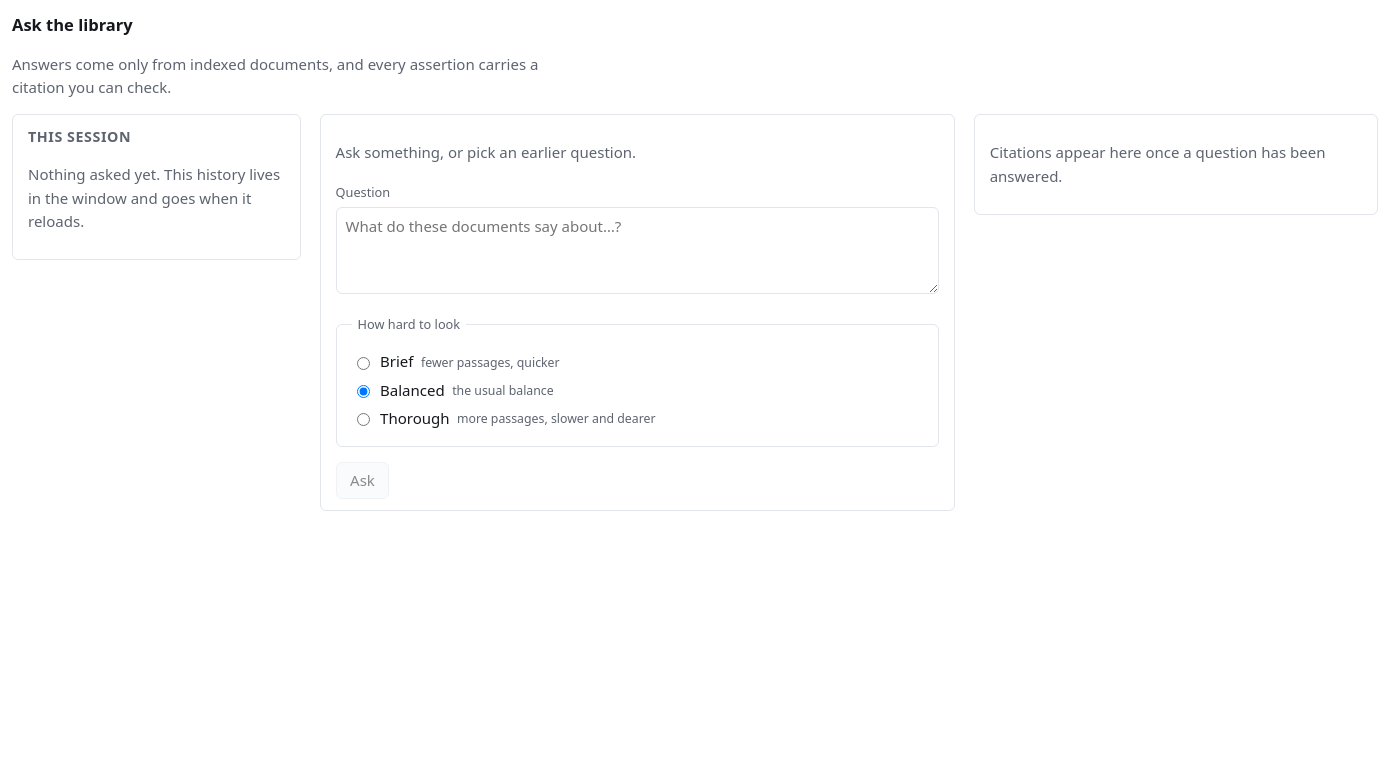
Test case: session history › keeps earlier questions and selects the newest
The image size is (1378, 780).
Type "¿la primera?" into the text box.
click(637, 250); type("¿la primera?")  # box [336,207,939,294]
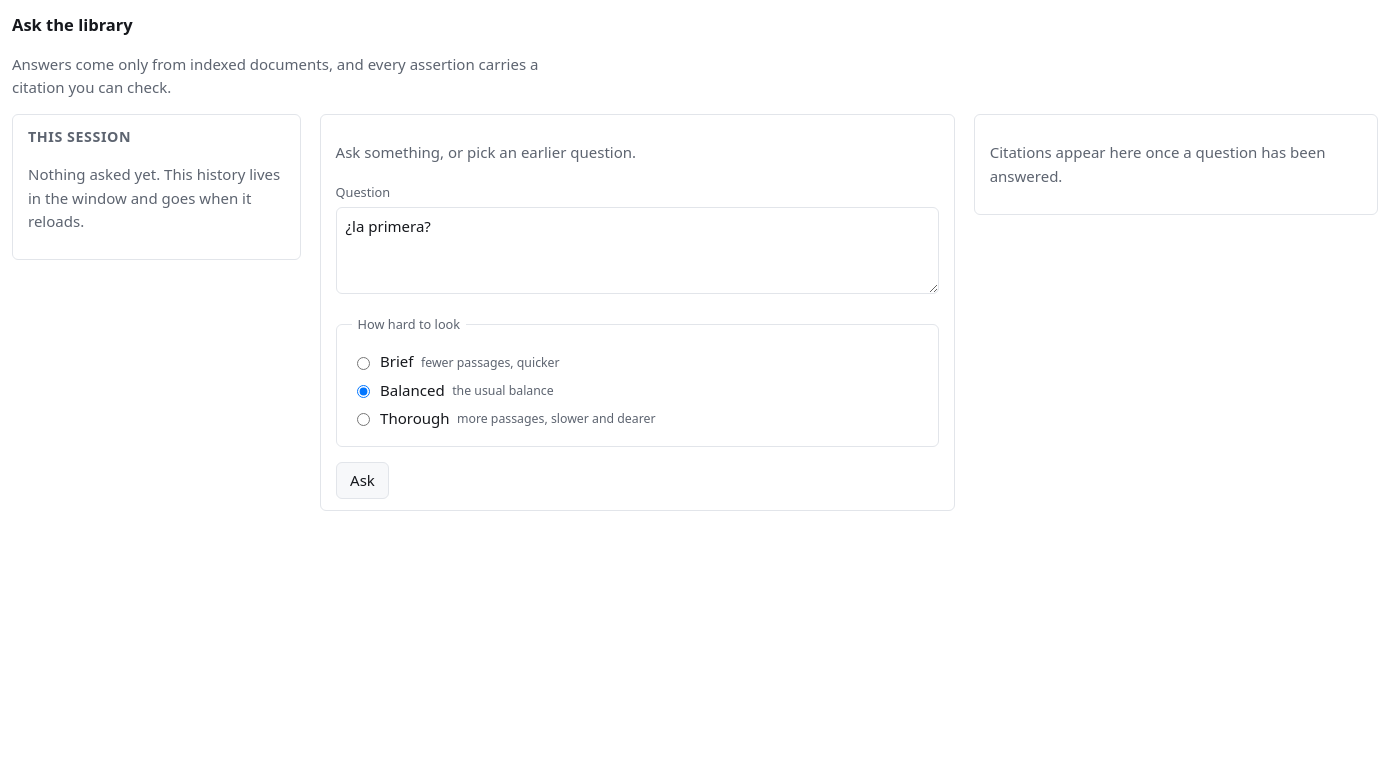
Expected: the button "Ask" is enabled
Click the button "Ask".
click(362, 480)  # box [336,462,389,499]
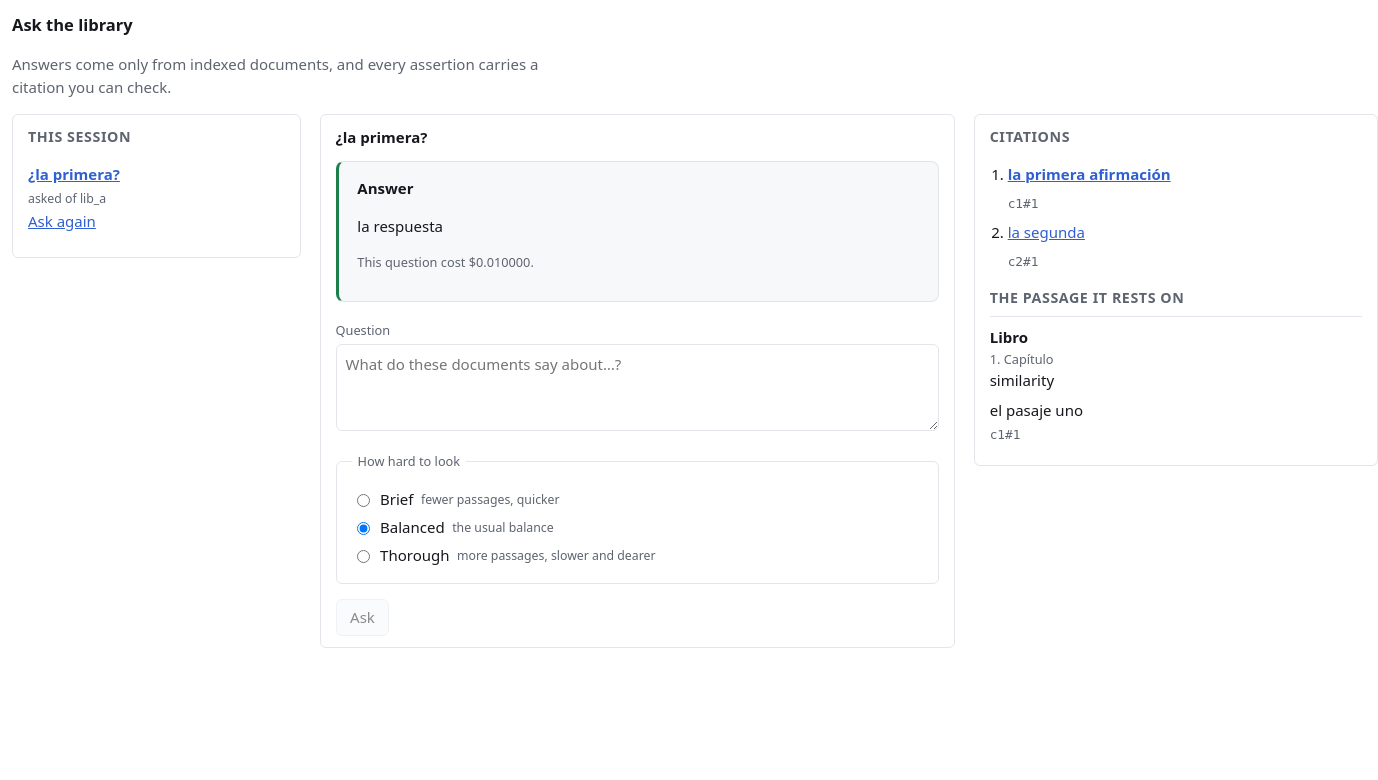
Expected: the text "la respuesta" is shown, [357,216,443,236]
Type "¿la segunda?" into the text box.
click(637, 388); type("¿la segunda?")  # box [336,344,939,431]
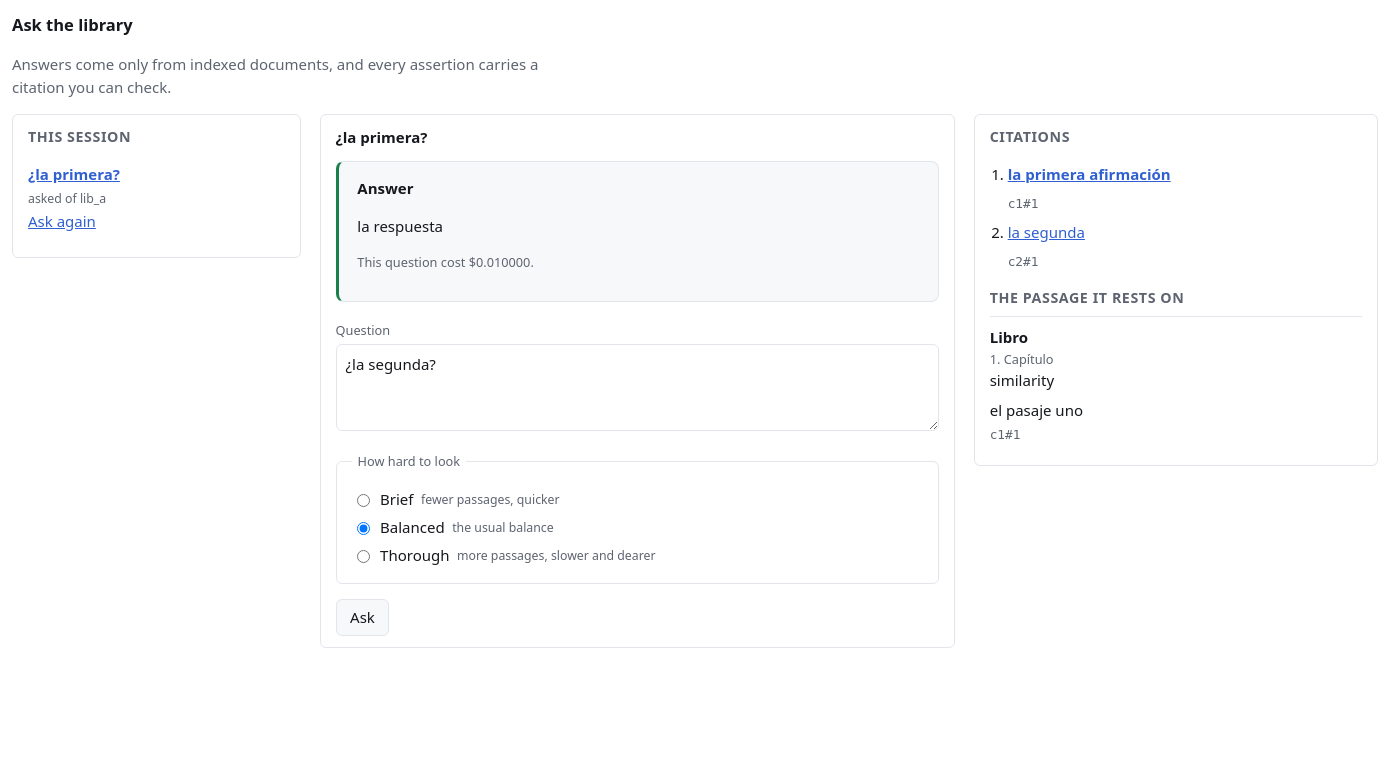
Expected: the button "Ask" is enabled
Click the button "Ask".
click(362, 618)  # box [336,599,389,636]
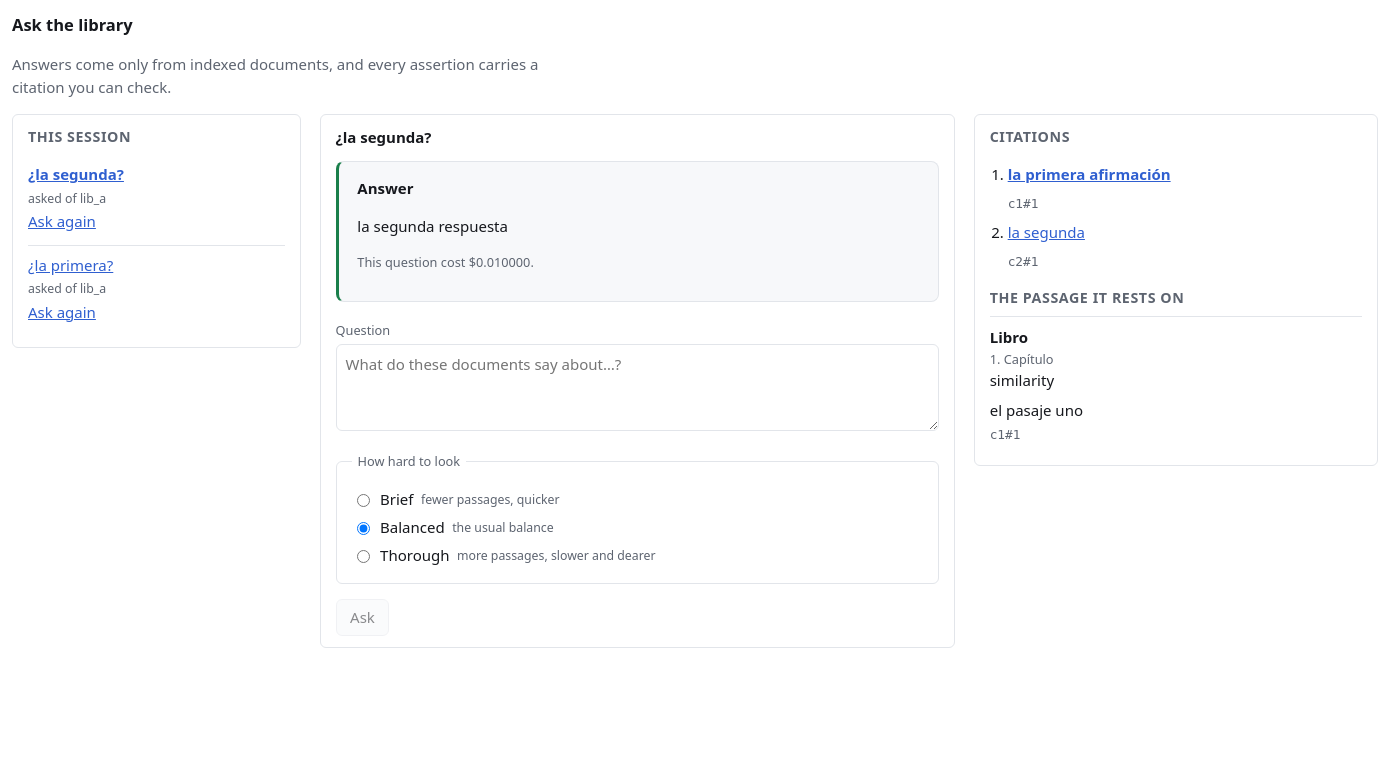
Expected: the button "¿la primera?" is shown, [28,254,113,277]
Expected: the text "la segunda respuesta" is shown, [357,216,508,236]
Expected: the button "¿la segunda?" is shown, [28,163,124,187]
